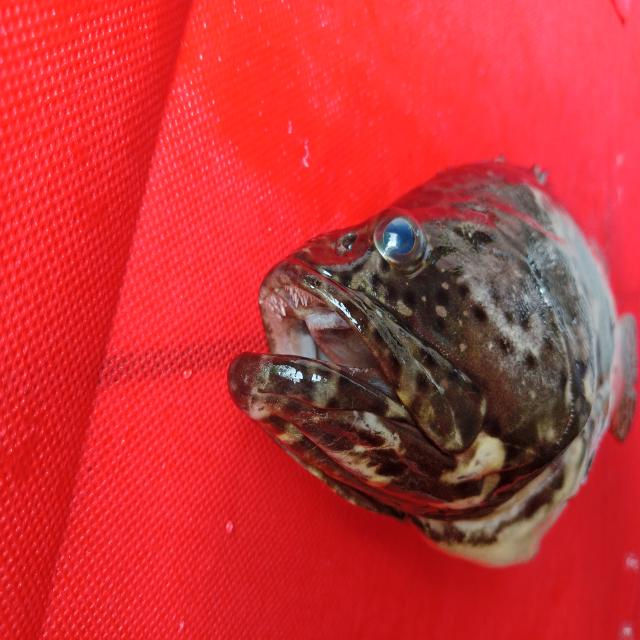ikan: (222, 140, 621, 571)
